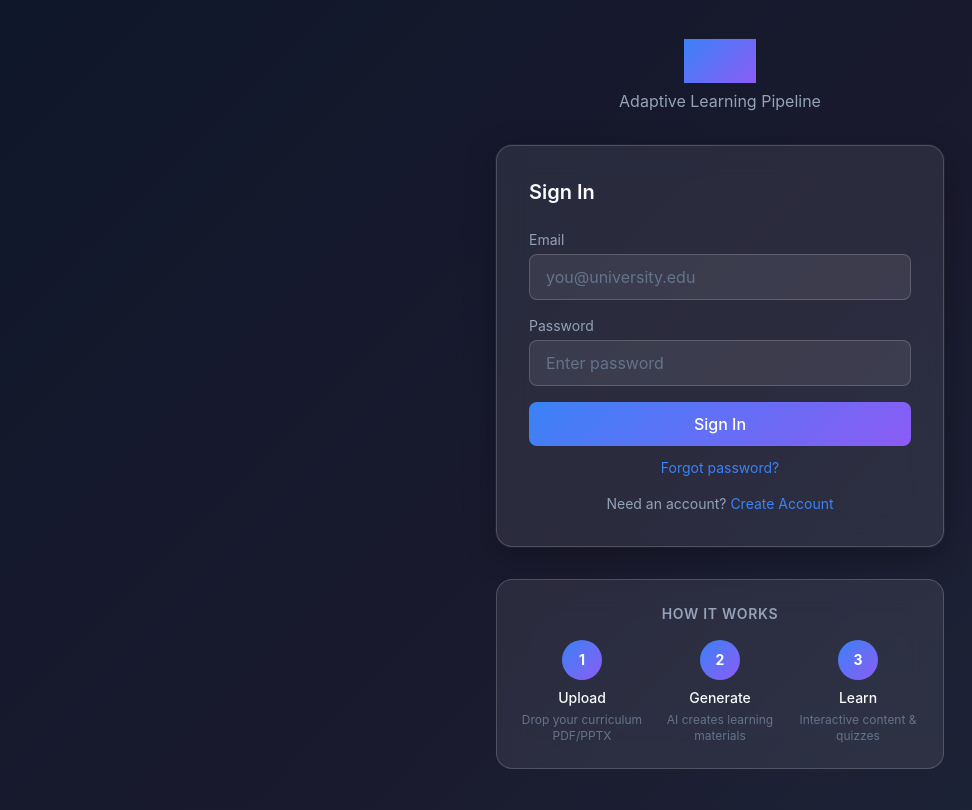
Test: LoginPage › toggles to register mode
Click the button "Create Account": (782, 504) [730,494,834,514]
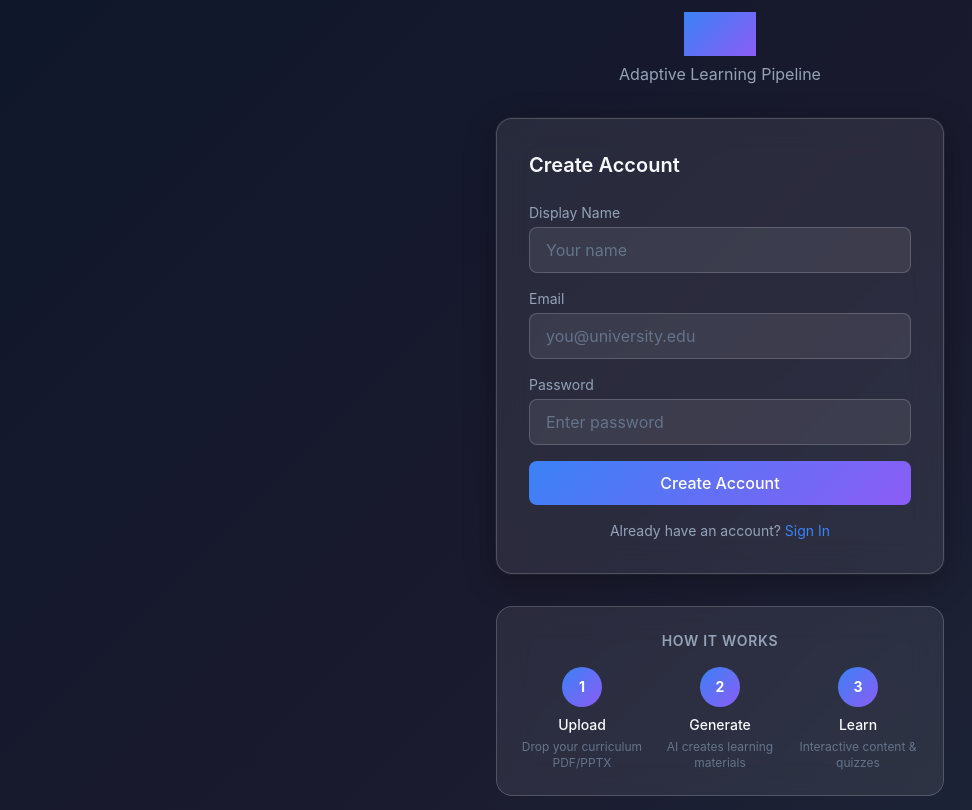
Expected: the text "Display Name" is shown, [529,204,620,221]
Expected: the heading "Create Account" is shown, [529,153,680,177]
